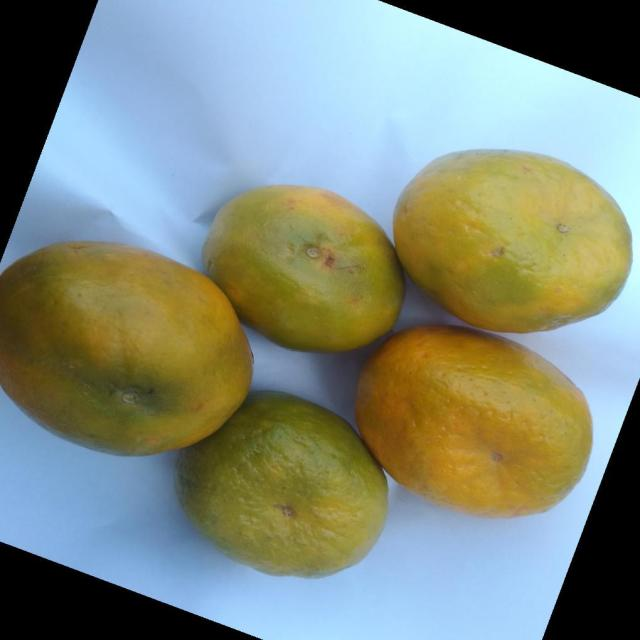fresh orange: (0, 238, 253, 456), (354, 323, 593, 518), (392, 146, 632, 333), (174, 389, 388, 579), (201, 183, 405, 353)
